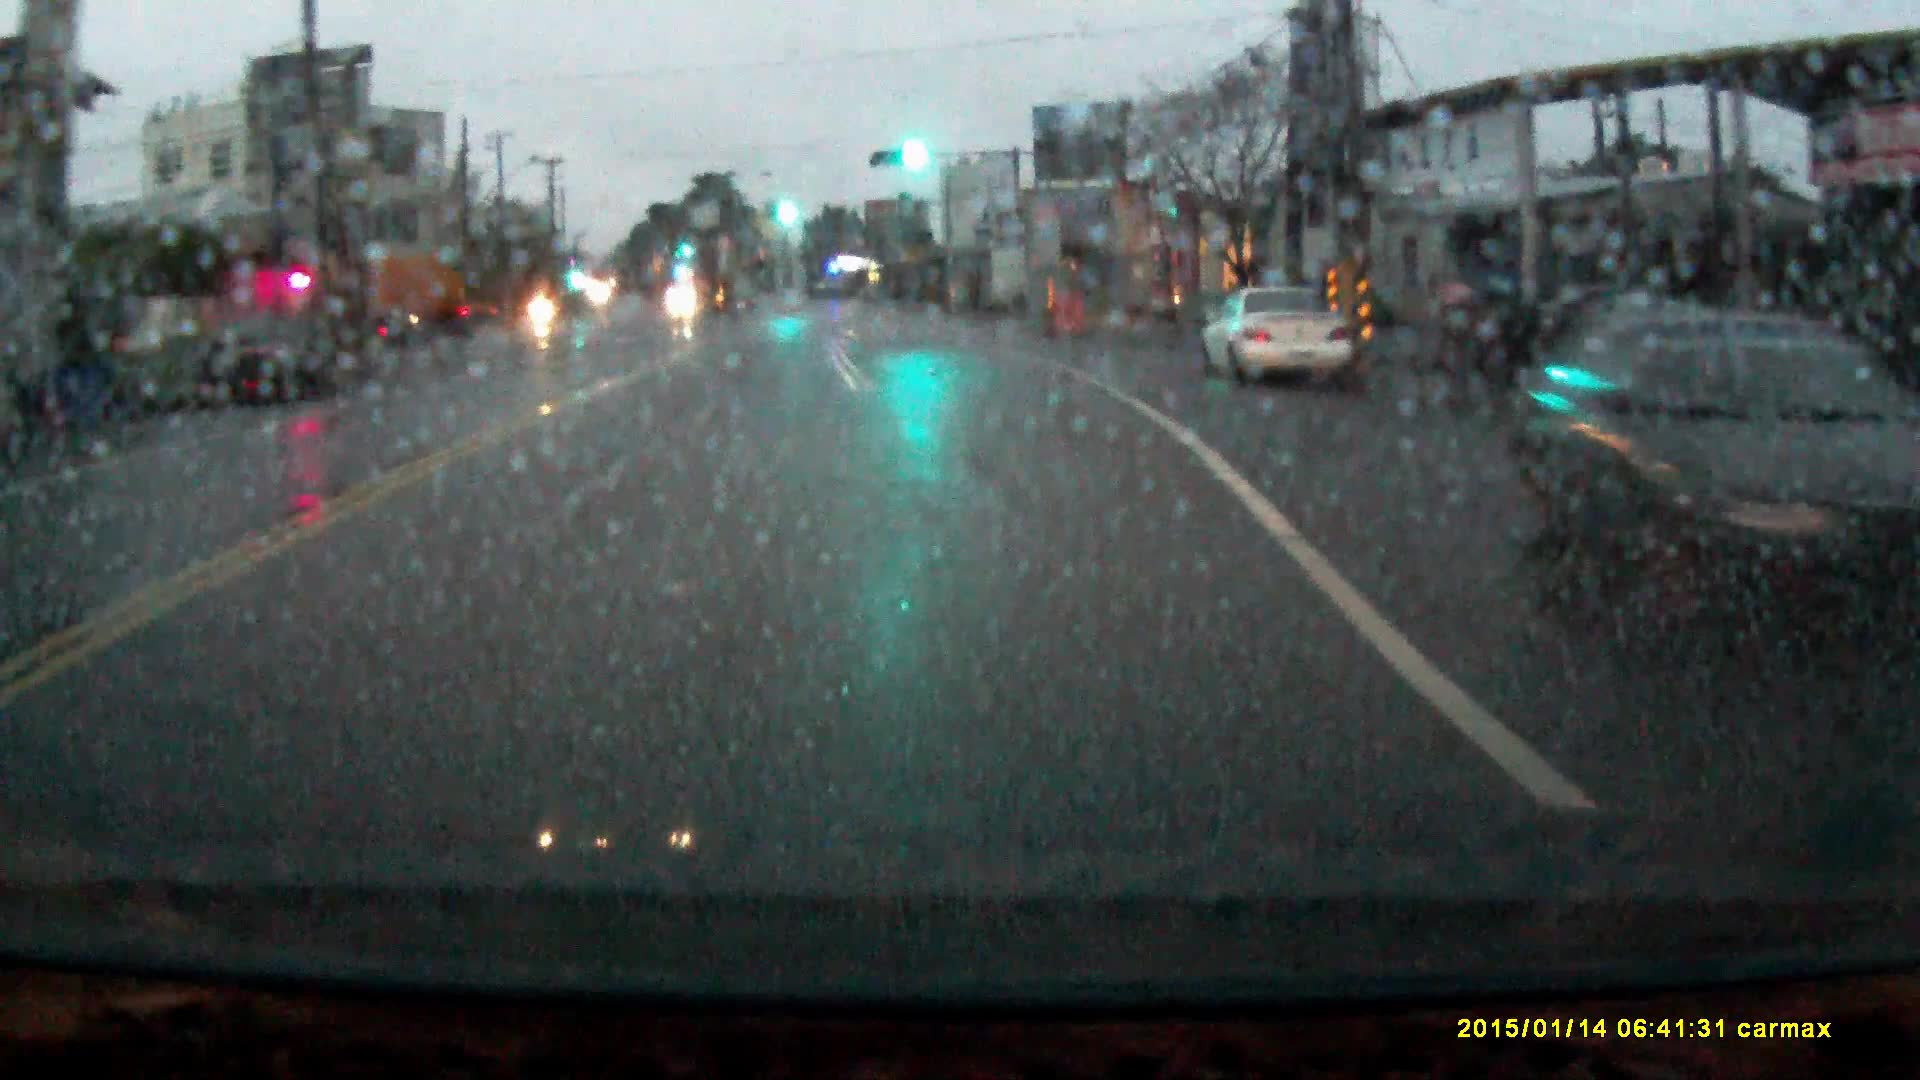rider: (527, 275, 560, 335)
vehicle: (1506, 307, 1920, 596), (1199, 288, 1347, 393), (340, 249, 498, 339), (188, 322, 343, 410), (668, 291, 697, 315)
